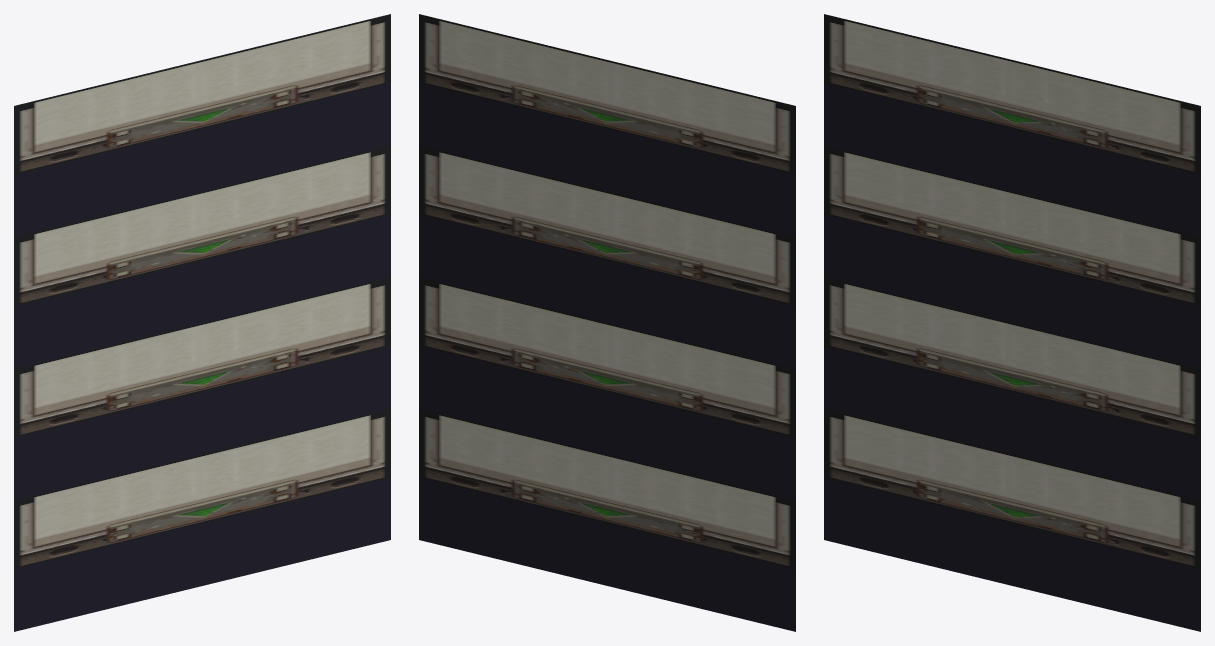
Rendered from OBJ_OilRig_StairsCap_UD.glb.
The picture shows the model from 3 angles, left to right: view 1: azimuth 30°, elevation 25°; view 2: azimuth 150°, elevation 25°; view 3: azimuth 330°, elevation 25°; orthographic projection.
Visible parts, largest first — view 1: Renderer_1, Renderer_4, Renderer_2, Renderer_3; view 2: Renderer_1, Renderer_4, Renderer_2, Renderer_3; view 3: Renderer_1, Renderer_4, Renderer_2, Renderer_3.
Boxes of the visible parts, box(x1,y1,x2,y2) form: Renderer_1: box(14, 408, 390, 631); Renderer_4: box(14, 14, 390, 237); Renderer_2: box(14, 277, 390, 500); Renderer_3: box(14, 145, 390, 368); Renderer_1: box(419, 408, 795, 631); Renderer_4: box(419, 14, 795, 237); Renderer_2: box(419, 277, 795, 500); Renderer_3: box(419, 145, 795, 368); Renderer_1: box(824, 408, 1200, 631); Renderer_4: box(824, 14, 1200, 237); Renderer_2: box(824, 277, 1200, 500); Renderer_3: box(824, 145, 1200, 368).
Size of the model in its own units: 3 by 4 by 6.12e-17.
4 materials, 4 textured.
